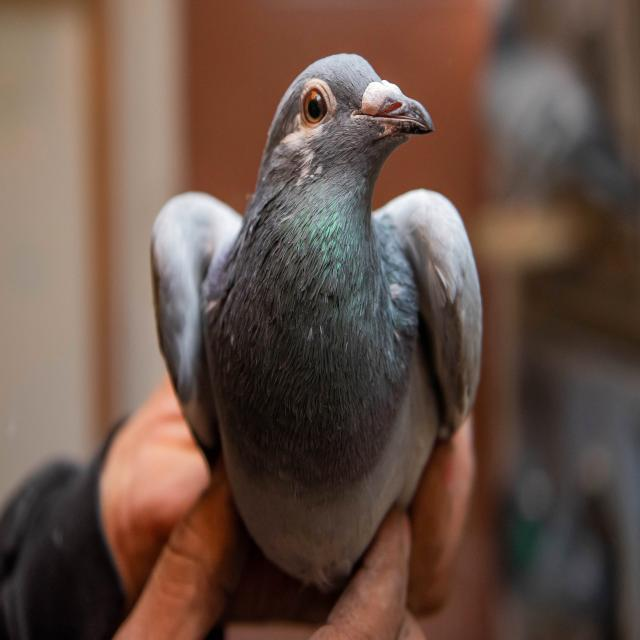pigeon: (151, 54, 482, 590)
